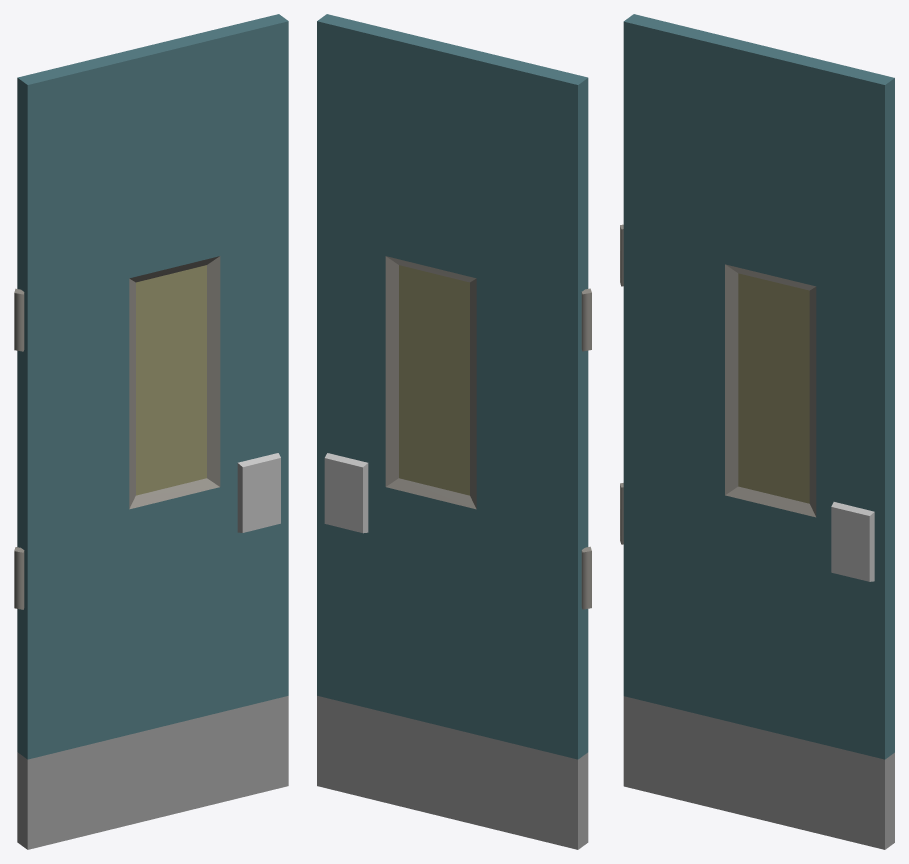
The model's file is SM_Door_B2_Right.FBX.
The picture shows the model from 3 angles, left to right: view 1: azimuth 30°, elevation 25°; view 2: azimuth 150°, elevation 25°; view 3: azimuth 330°, elevation 25°; orthographic projection.
Visible parts, largest first — view 1: SM_Door_B2_Right; view 2: SM_Door_B2_Right; view 3: SM_Door_B2_Right.
Part boxes in pixels (x1=…): SM_Door_B2_Right: x1=14, y1=14, x2=288, y2=849; SM_Door_B2_Right: x1=317, y1=14, x2=591, y2=849; SM_Door_B2_Right: x1=620, y1=14, x2=894, y2=849.
Bounding box in the file's own units: 88.06 × 10.04 × 238.
